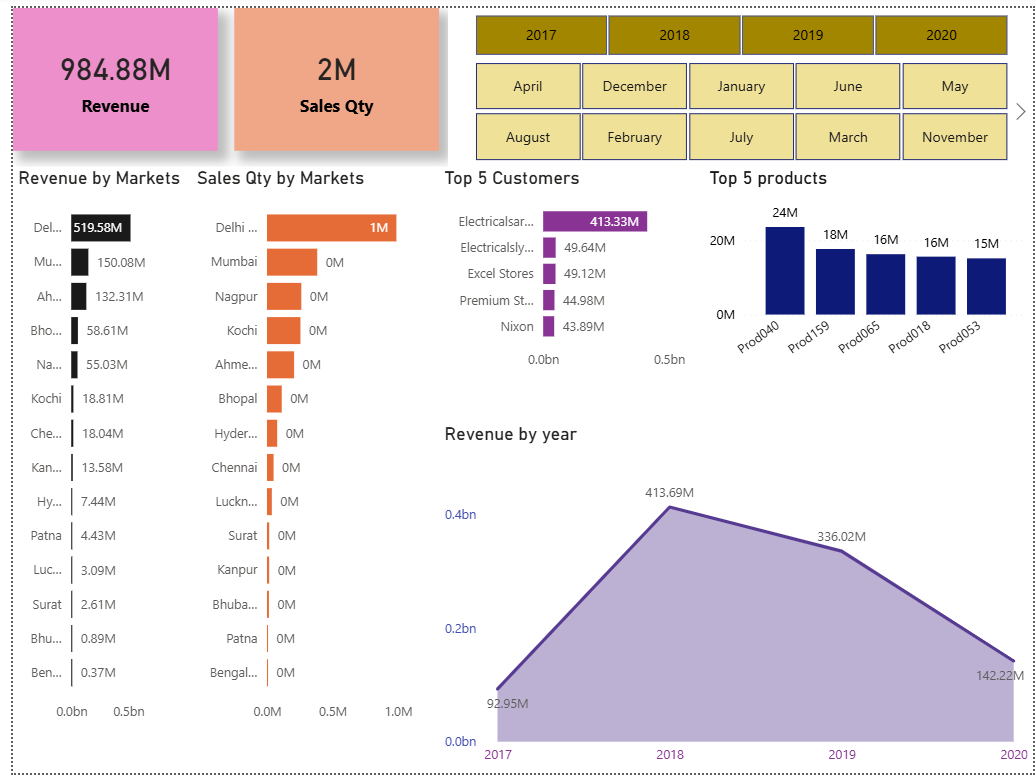

The page's visual inventory and layout, read from the dashboard file:
{"tool":"powerbi","page":{"name":"Page 1","canvas":[960,720],"ordinal":0},"visuals":[{"type":"card","fields":{"Values":["Base measure.Revenue"]},"box":[0,0,193.1,134.2],"z":0},{"type":"card","fields":{"Values":["Base measure.Sales Qty"]},"box":[208.4,0,193.1,134.2],"z":1000},{"type":"clusteredBarChart","title":"Revenue by Markets","fields":{"Category":["sales markets.markets_name"],"Y":["Base measure.Revenue"]},"box":[0,149.5,168,531.4],"z":2000},{"type":"clusteredBarChart","title":"Sales  Qty by Markets","fields":{"Category":["sales markets.markets_name"],"Y":["Base measure.Sales Qty"]},"box":[168,149.5,233.5,531.4],"z":3000},{"type":"slicer","fields":{"Values":["sales date.month_name"]},"box":[409.6,45.2,550.3,105.2],"z":4000},{"type":"slicer","fields":{"Values":["sales date.year"]},"box":[409.6,0,550.3,51.4],"z":5000},{"type":"clusteredBarChart","title":"Top 5 Customers","fields":{"Y":["Base measure.Revenue"],"Category":["sales customers.custmer_name"]},"box":[401.3,149.9,267.1,199.5],"z":6000},{"type":"columnChart","title":"Top 5 products","fields":{"Category":["sales products.product_code"],"Y":["Base measure.Revenue"]},"box":[650.5,149.2,309.4,199.3],"z":7000},{"type":"areaChart","fields":{"Y":["Base measure.Revenue"],"Category":["sales date.year"]},"box":[401.1,390.1,558.8,330.2],"z":8000}]}

Visuals, with their boxes in screenshot pixels (x1, y1, x2, y2), scaled from the page's 960x720 canvas onto the 1036x775 screenshot:
card - Base measure.Revenue: x1=0 y1=0 x2=208 y2=144
card - Base measure.Sales Qty: x1=225 y1=0 x2=433 y2=144
"Revenue by Markets" clusteredBarChart: x1=0 y1=161 x2=181 y2=733
"Sales  Qty by Markets" clusteredBarChart: x1=181 y1=161 x2=433 y2=733
slicer - sales date.month_name: x1=442 y1=49 x2=1035 y2=162
slicer - sales date.year: x1=442 y1=0 x2=1035 y2=55
"Top 5 Customers" clusteredBarChart: x1=433 y1=161 x2=721 y2=376
"Top 5 products" columnChart: x1=702 y1=161 x2=1035 y2=375
areaChart - Base measure.Revenue x sales date.year: x1=433 y1=420 x2=1035 y2=774
